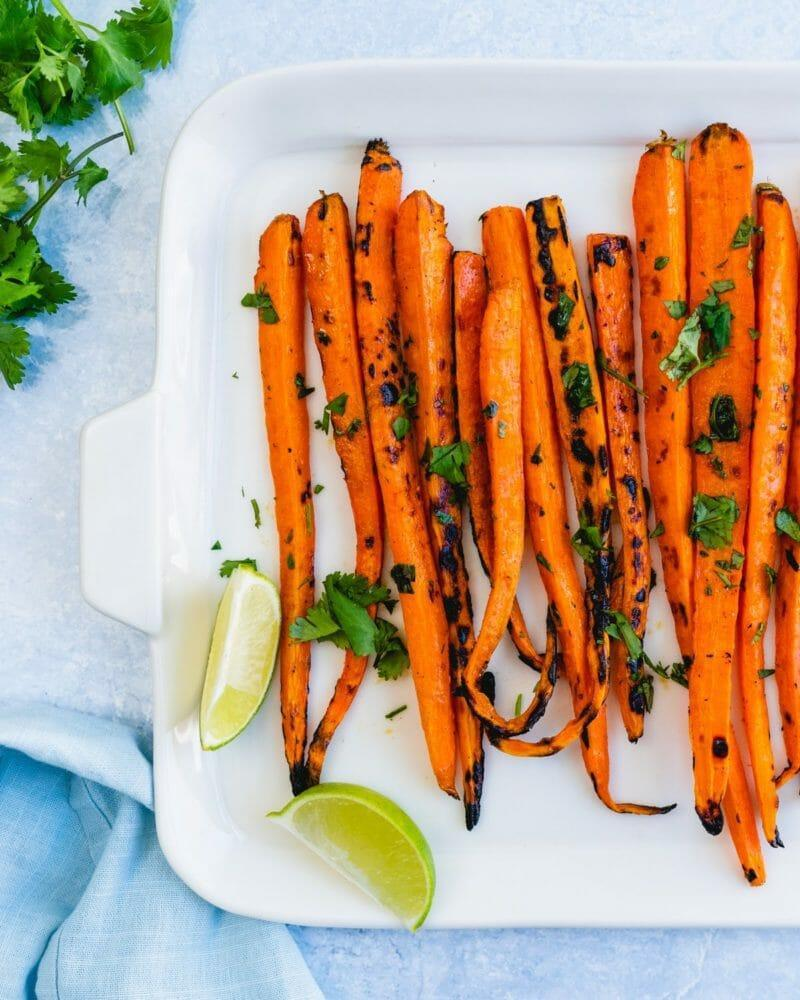carrot: (265, 183, 800, 773)
